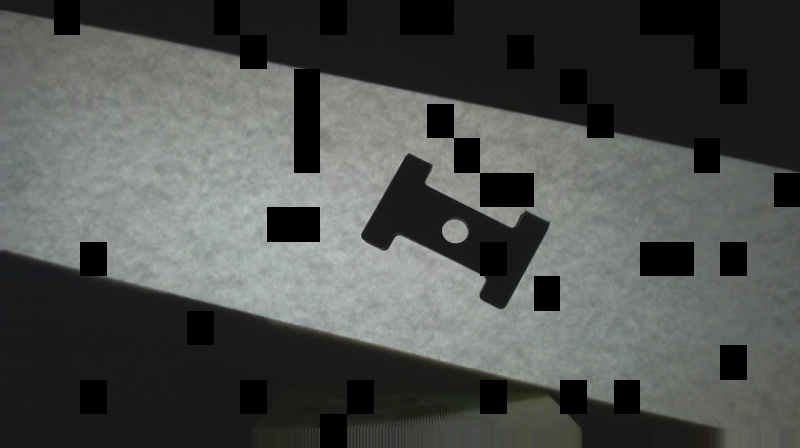O002: (359, 151, 554, 310)
